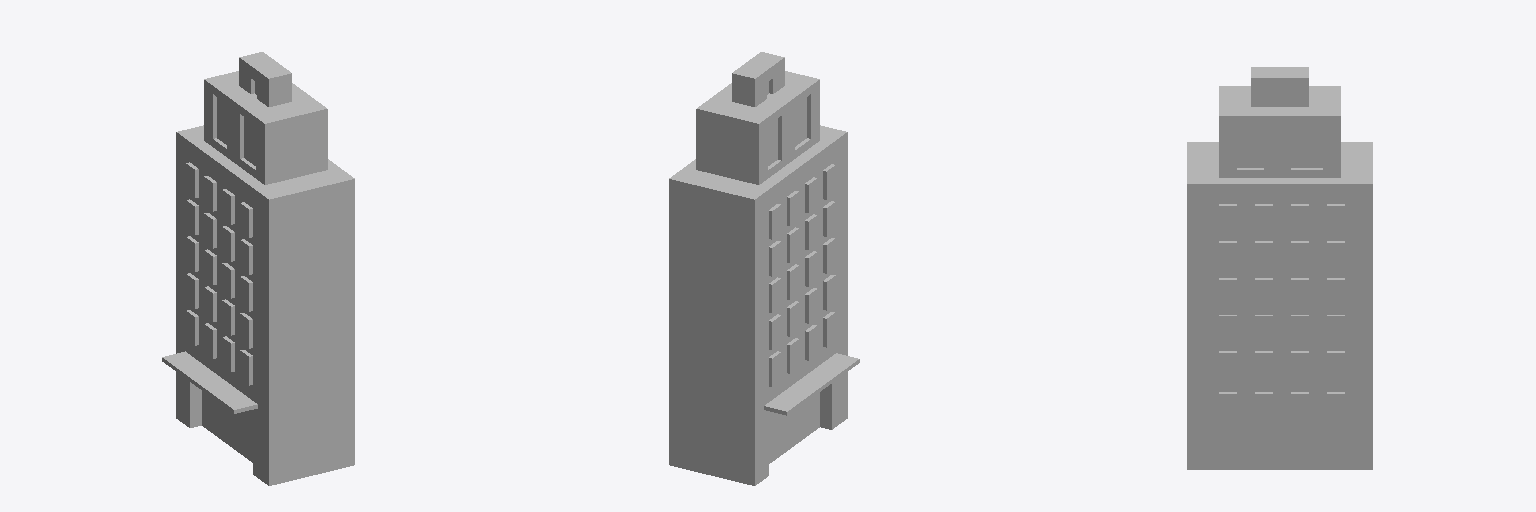
File: build_2.obj
3 views of the same model, side by side, from view 1: azimuth 30°, elevation 25°; view 2: azimuth 150°, elevation 25°; view 3: azimuth 270°, elevation 25° (orthographic).
Size of the model in its own units: 29 by 92 by 41.